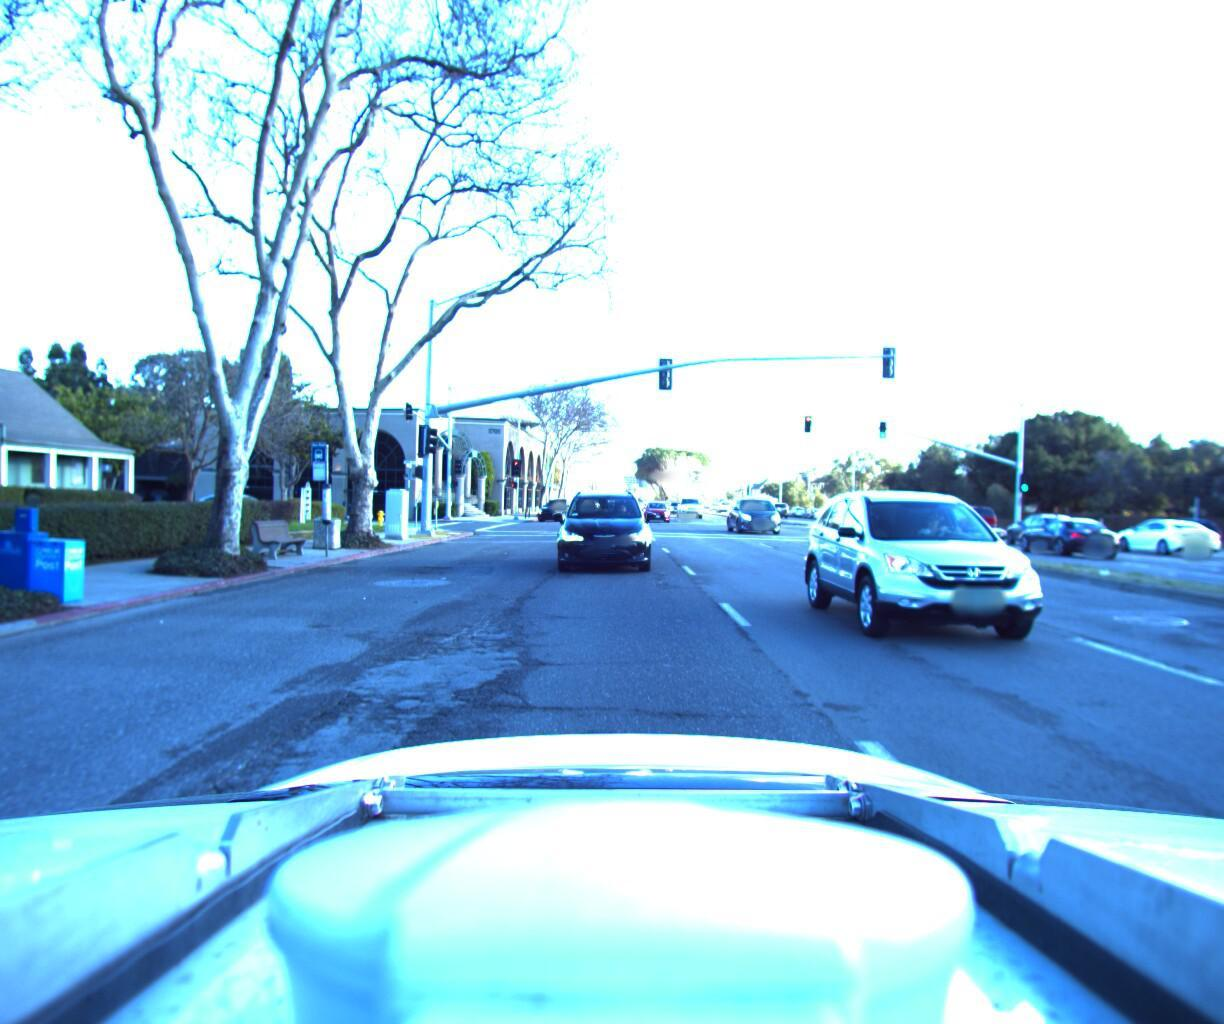bicycle: (1209, 507, 1224, 545)
car: (814, 469, 1169, 687), (552, 475, 652, 573), (994, 502, 1113, 551), (174, 486, 295, 528), (1098, 508, 1213, 551), (1122, 508, 1224, 543), (982, 504, 1066, 539), (726, 486, 790, 529), (639, 490, 670, 516), (136, 484, 174, 504), (676, 491, 705, 513)
